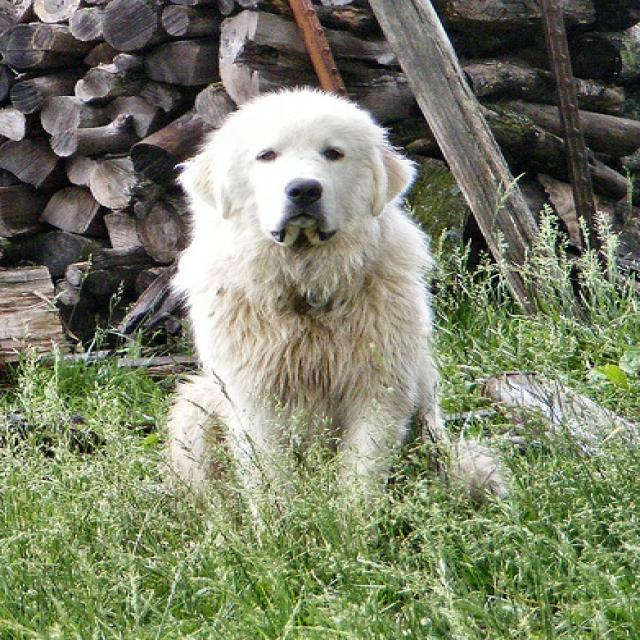dog-great_pyrenees: (155, 76, 527, 545)
